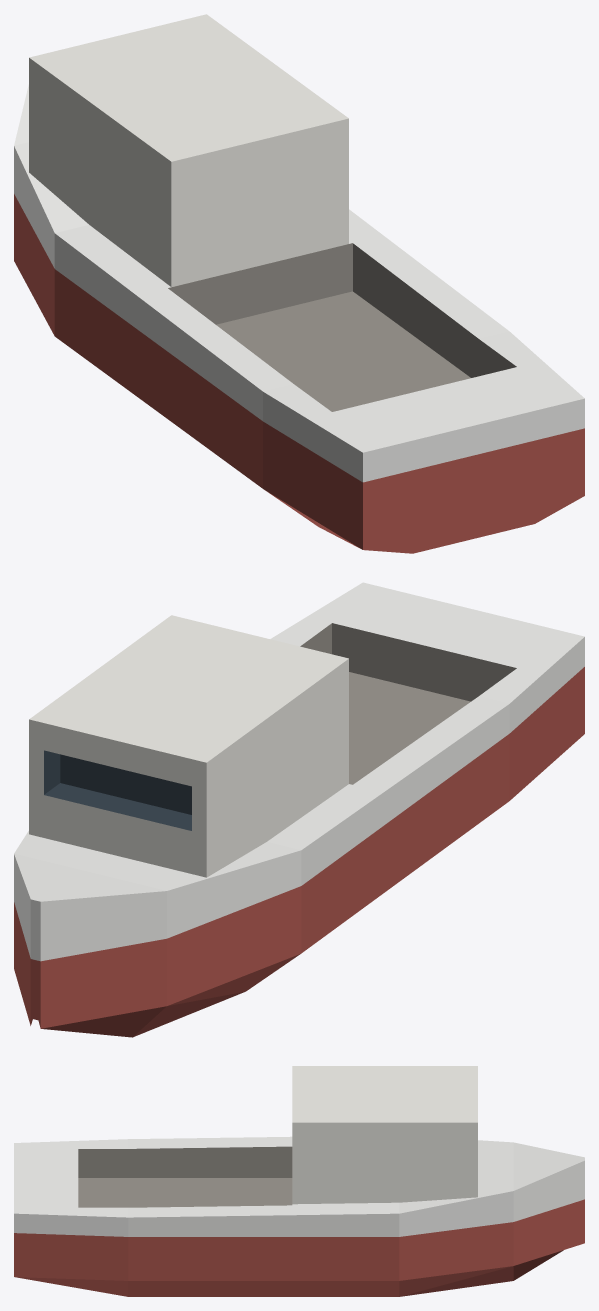
File: launch_lod1.glb
The picture shows the model from 3 angles, top to bottom: view 1: azimuth 30°, elevation 25°; view 2: azimuth 150°, elevation 25°; view 3: azimuth 270°, elevation 25°; orthographic projection. The views are drawn at different scales.
Visible parts, largest first — view 1: launch_lod1; view 2: launch_lod1; view 3: launch_lod1.
Part boxes in pixels (box(x1,y1,x2,y2)): launch_lod1: box(14, 14, 584, 553); launch_lod1: box(14, 582, 584, 1037); launch_lod1: box(14, 1066, 584, 1296).
Size of the model in its own units: 2.6 by 2.8 by 8.
